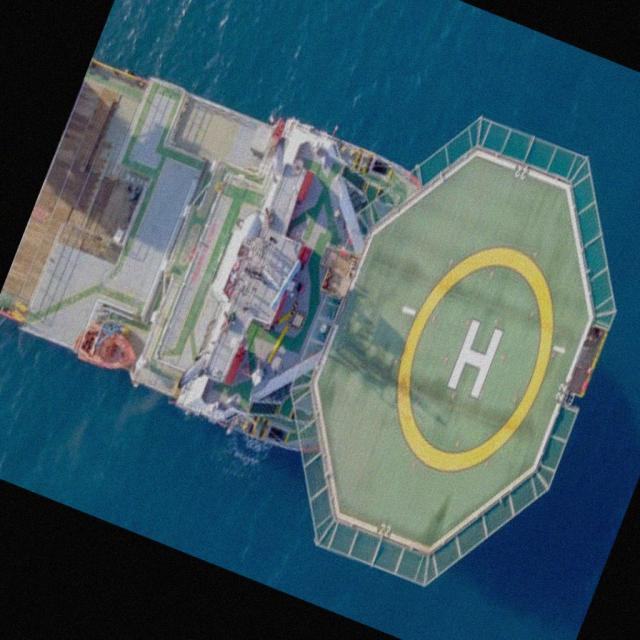helipad: (392, 242, 557, 477)
